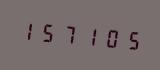five: (37, 16, 56, 47), (118, 23, 137, 54)
one: (17, 14, 36, 46), (78, 19, 97, 51)
seven: (58, 18, 77, 49)
zero: (98, 21, 117, 53)
